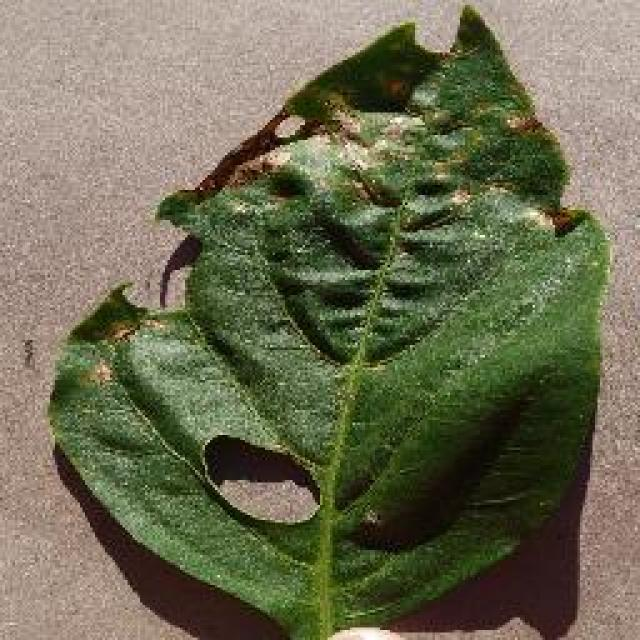Chilli_Bacterial_Spot: (43, 2, 615, 638), (197, 430, 325, 528), (542, 202, 588, 238), (500, 108, 542, 138), (378, 73, 412, 105)
